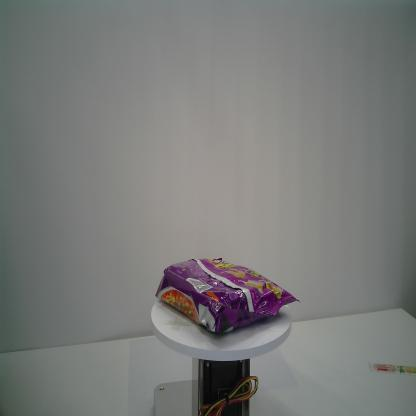Instant Noodles: (154, 255, 300, 337)
